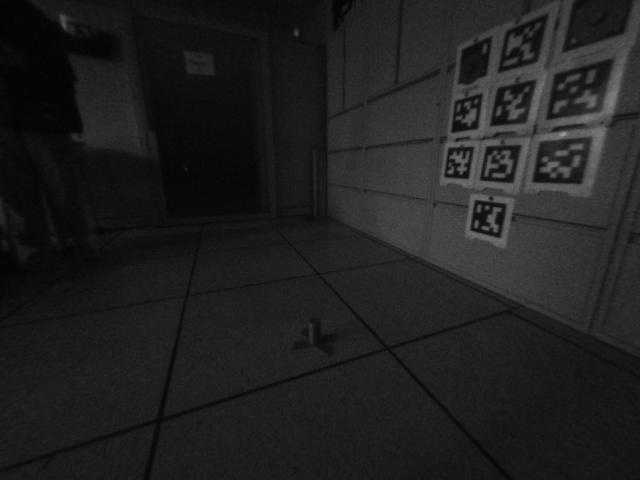x: (289, 315, 338, 359)
